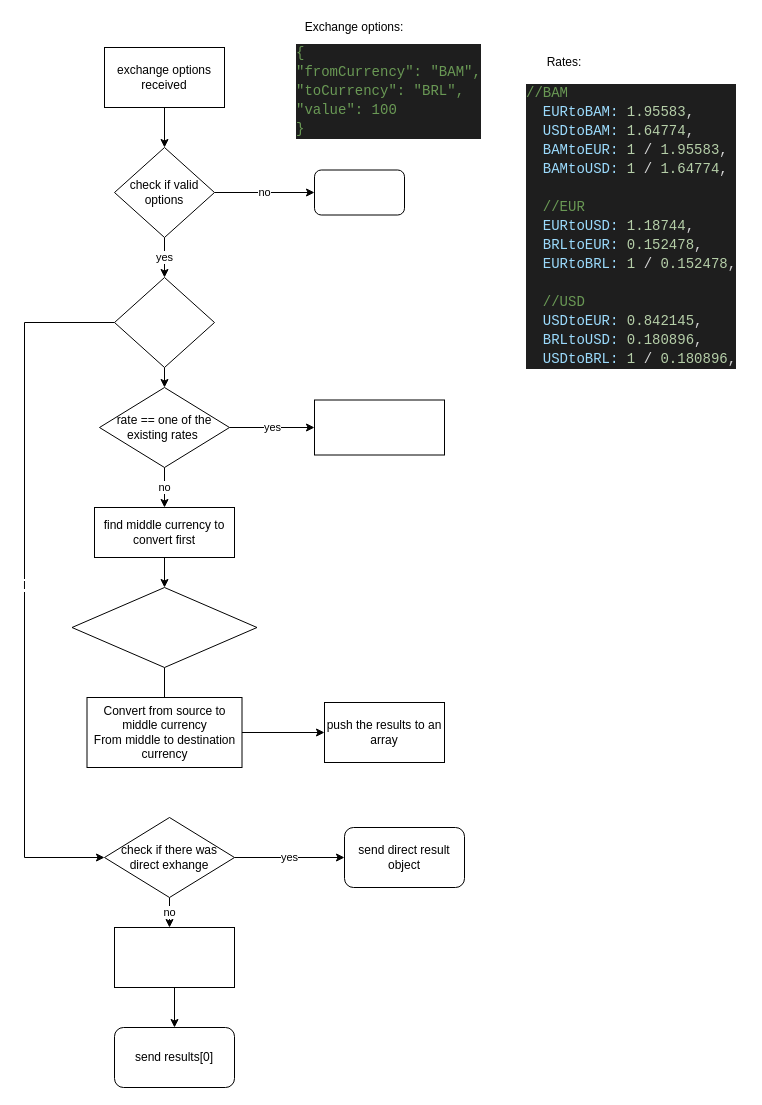
Image size: 762x1105. Some labels were removed from this diagram. The centre of each missing label's shape, as x and y in pixels:
"for rate in rates:" goes at point (164, 322).
"from middle currency to destination currency exist?" goes at point (164, 627).
"return error" goes at point (359, 192).
"sort results by total amount" goes at point (174, 957).
"store direct results in object" goes at point (379, 427).
